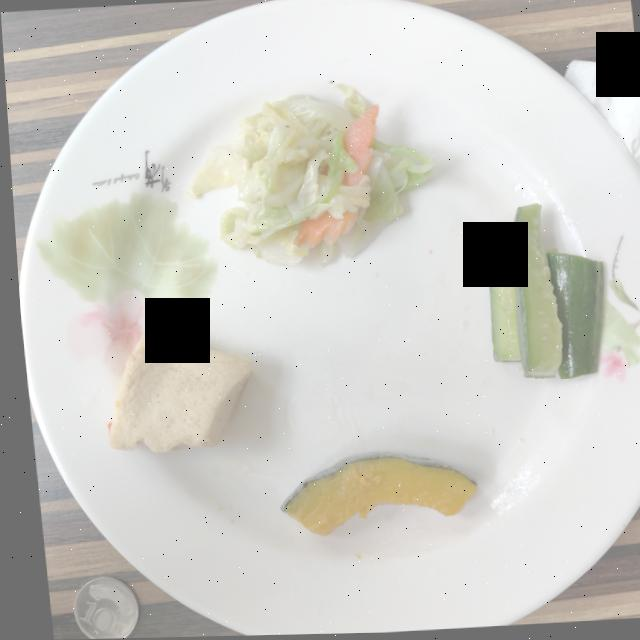cabbage: (183, 85, 431, 265)
coin: (64, 576, 130, 639)
creamy tofu -without sauce-: (102, 332, 246, 452)
cucumber: (480, 205, 599, 379)
pumpkin: (273, 452, 469, 536)
